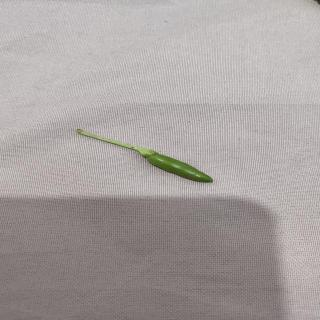Cabai Hijau: (71, 123, 215, 196)
